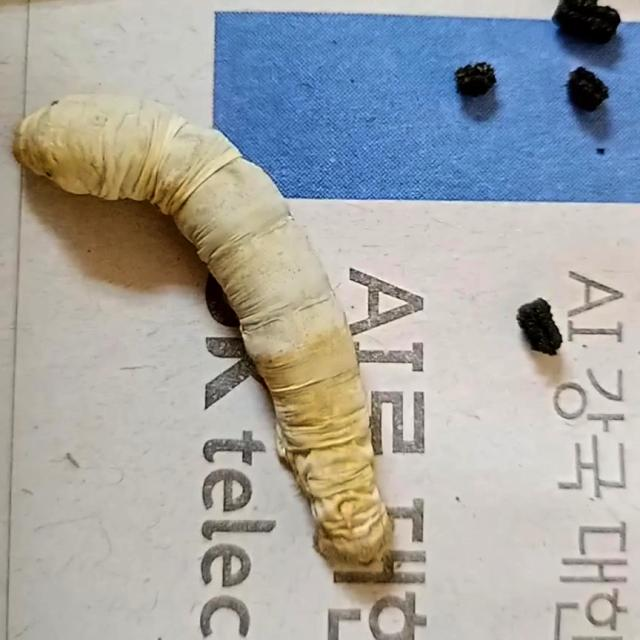Grasserie: (3, 76, 504, 606)
